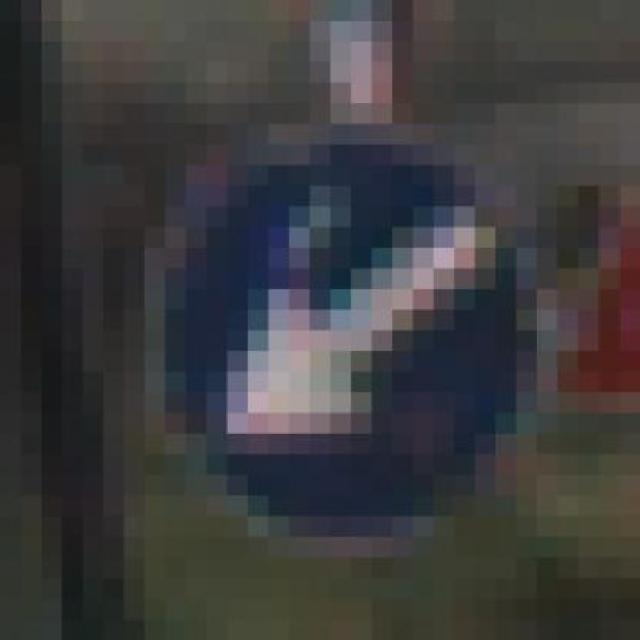Keep-Left: (124, 103, 578, 557)
